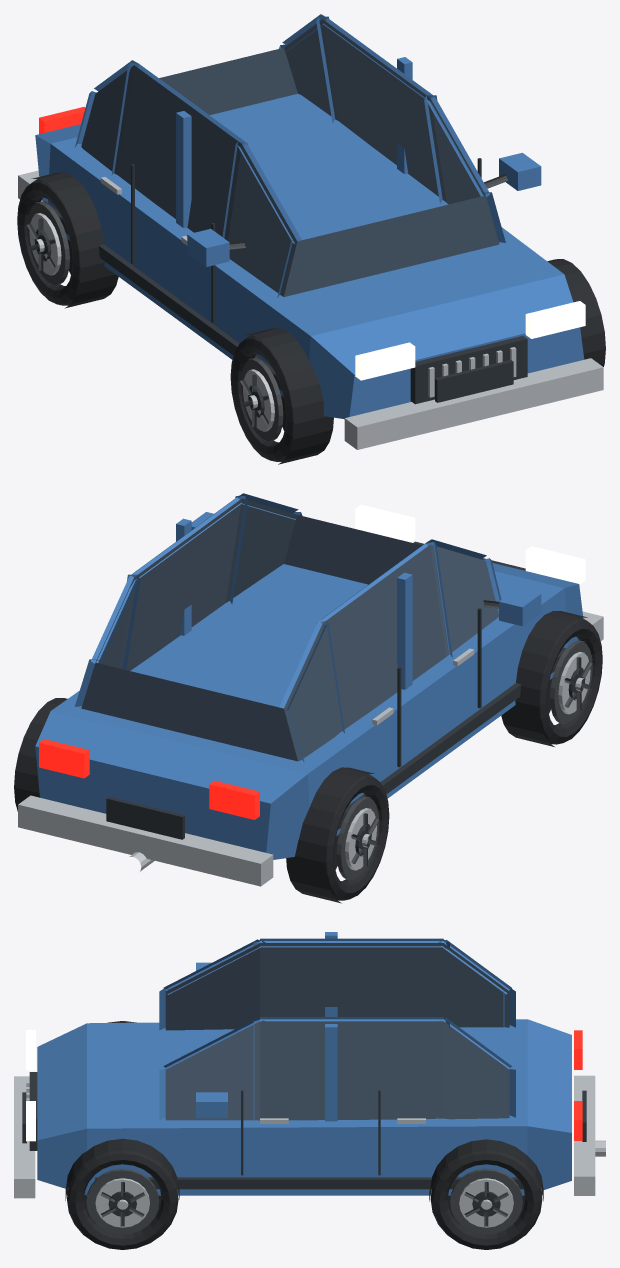
Rendered from car-sedan.glb.
The picture shows the model from 3 angles, top to bottom: view 1: azimuth 30°, elevation 25°; view 2: azimuth 150°, elevation 25°; view 3: azimuth 270°, elevation 25°; orthographic projection. The views are drawn at different scales.
Visible parts, largest first — view 1: body-detail, wheel-front-left, wheel-back-left, wheel-front-right; view 2: body-detail, wheel-back-left, wheel-front-left, wheel-back-right; view 3: body-detail, wheel-front-right, wheel-back-right.
Part boxes in pixels (left/top/right/bottom): body-detail: left=18, top=14, right=603, bottom=449; wheel-front-left: left=230, top=328, right=333, bottom=464; wheel-back-left: left=17, top=172, right=118, bottom=308; wheel-front-right: left=547, top=259, right=605, bottom=366; body-detail: left=18, top=493, right=603, bottom=886; wheel-back-left: left=286, top=767, right=389, bottom=903; wheel-front-left: left=501, top=611, right=602, bottom=746; wheel-back-right: left=14, top=698, right=67, bottom=811; body-detail: left=14, top=932, right=605, bottom=1198; wheel-front-right: left=65, top=1138, right=179, bottom=1249; wheel-back-right: left=429, top=1139, right=543, bottom=1249.
Bounding box in the file's own units: 1.85 × 1.31 × 3.32.
